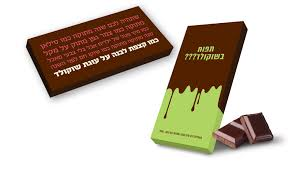Chocolate: (157, 18, 236, 158)
